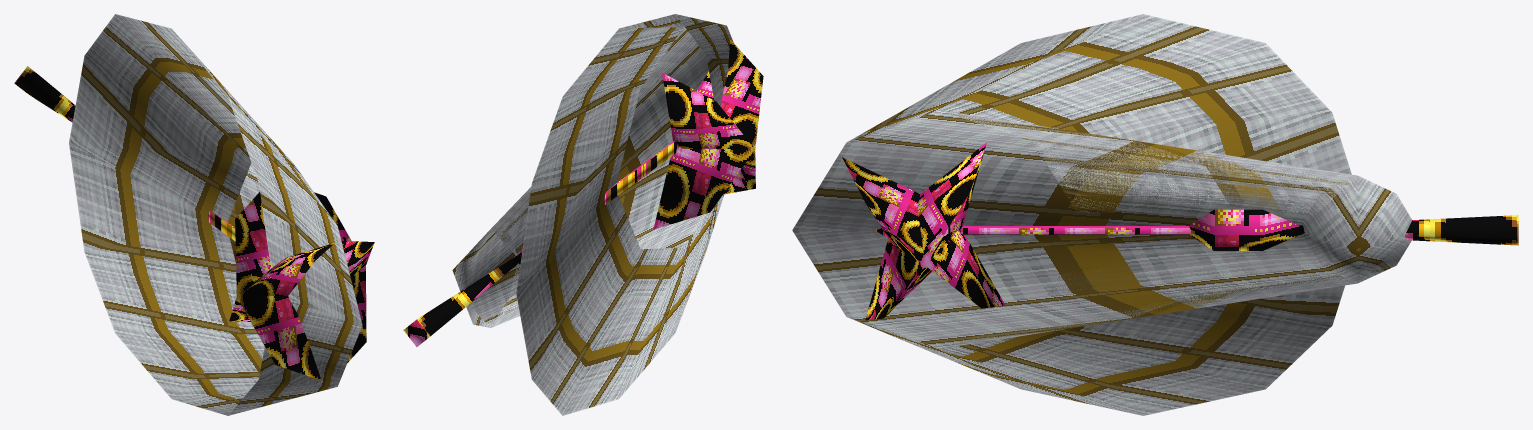
File: 02_03_stick.gltf
3 views of the same model, side by side, from view 1: azimuth 30°, elevation 25°; view 2: azimuth 150°, elevation 25°; view 3: azimuth 270°, elevation 25° (orthographic). The views are drawn at different scales.
Visible parts, largest first — view 1: 02_03_stick; view 2: 02_03_stick; view 3: 02_03_stick.
Part boxes in pixels (<box>): 02_03_stick: <box>14,14,374,415</box>; 02_03_stick: <box>403,14,763,415</box>; 02_03_stick: <box>792,14,1518,415</box>.
Size of the model in its own units: 0.2778 by 0.761 by 1.25.
2 materials, 2 textured.
